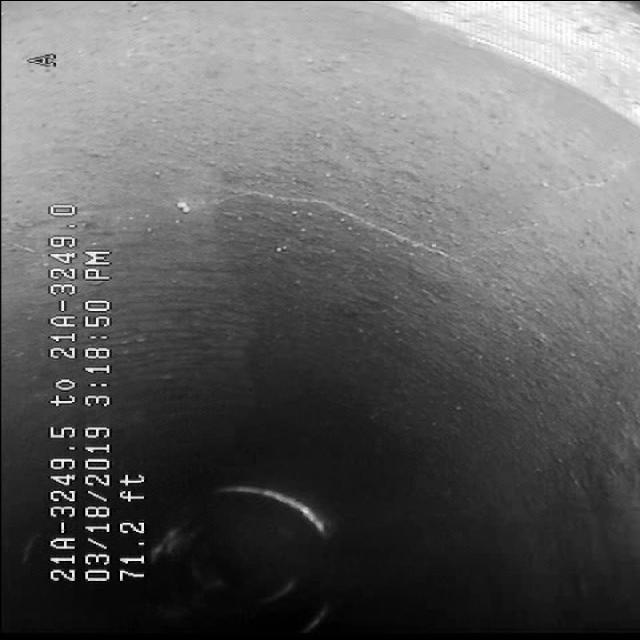Crack: (193, 170, 455, 252)
